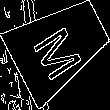M_NE: (30, 14, 89, 79)
